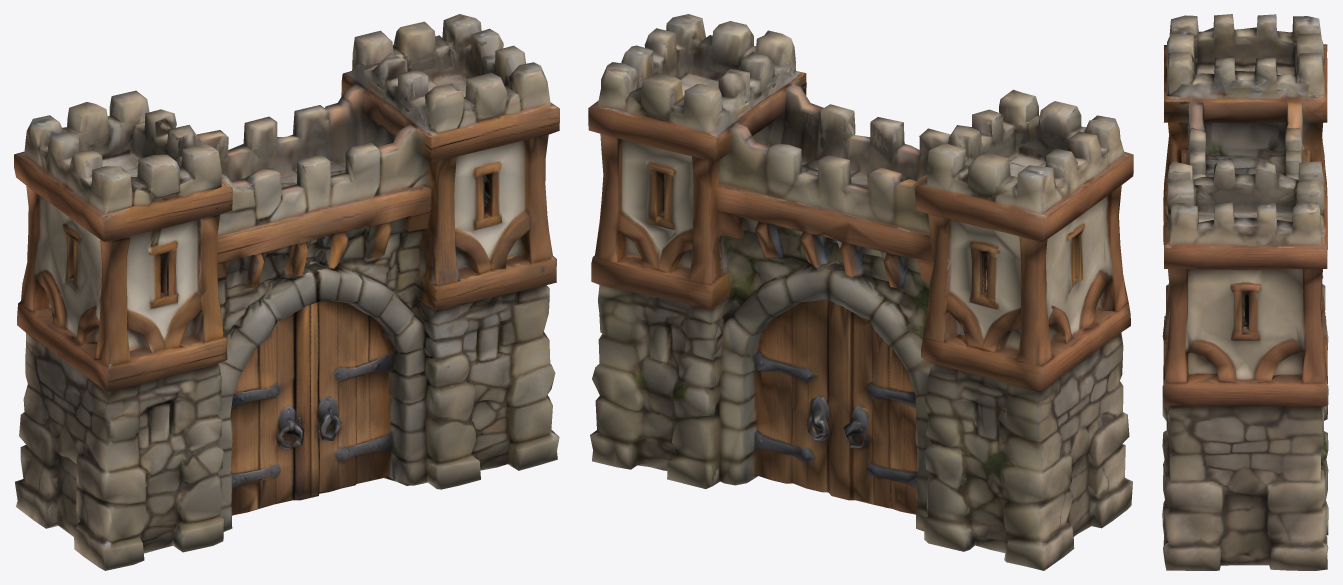
The model's file is _Whimsical_slightly__1104084855_texture.glb.
3 views of the same model, side by side, from view 1: azimuth 30°, elevation 25°; view 2: azimuth 150°, elevation 25°; view 3: azimuth 270°, elevation 25° (orthographic). The views are drawn at different scales.
Size of the model in its own units: 1.91 by 1.56 by 0.658.
1 material, 1 textured.
